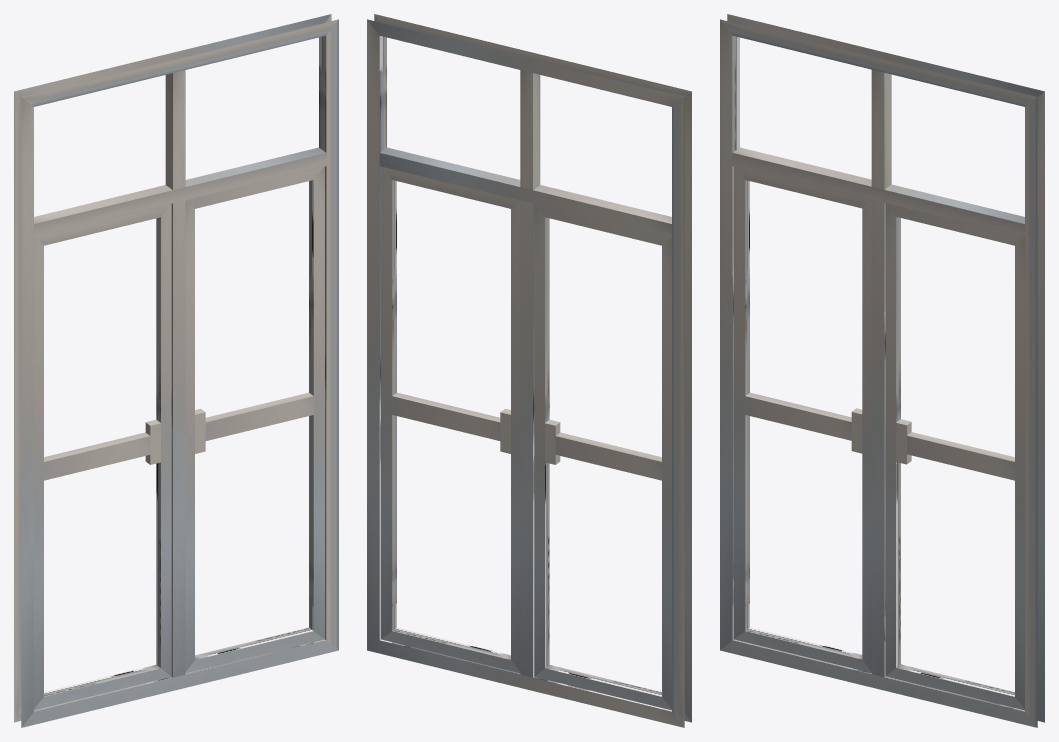
File: LouDao-18.FBX
The picture shows the model from 3 angles, left to right: view 1: azimuth 30°, elevation 25°; view 2: azimuth 150°, elevation 25°; view 3: azimuth 330°, elevation 25°; orthographic projection.
Visible parts, largest first — view 1: LouDao-18; view 2: LouDao-18; view 3: LouDao-18.
Part boxes in pixels (bbox=[...]): LouDao-18: bbox=[14, 14, 338, 727]; LouDao-18: bbox=[367, 14, 691, 727]; LouDao-18: bbox=[720, 14, 1044, 727].
Bounding box in the file's own units: 1500 × 2850 × 60.
